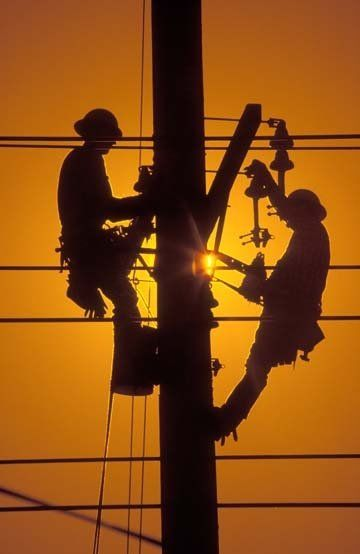hardhat: (65, 100, 132, 143), (277, 178, 326, 227)
person: (206, 166, 338, 447), (54, 92, 164, 354)
